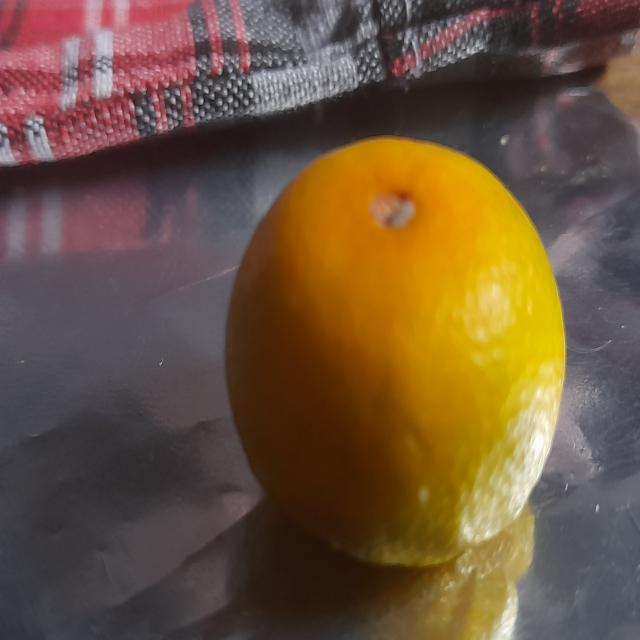greening: (225, 126, 578, 579)
